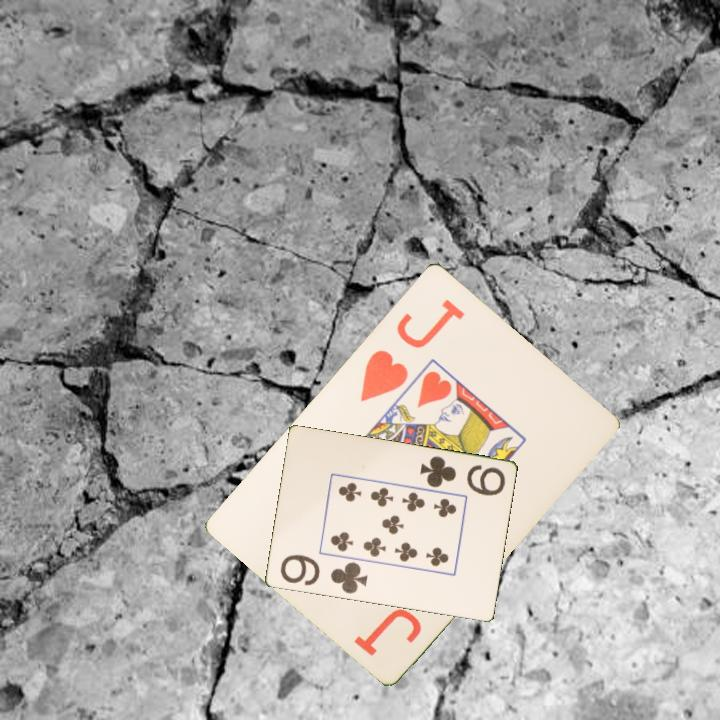9c: (276, 551, 371, 597), (416, 452, 508, 499)
Jh: (356, 294, 468, 405)
